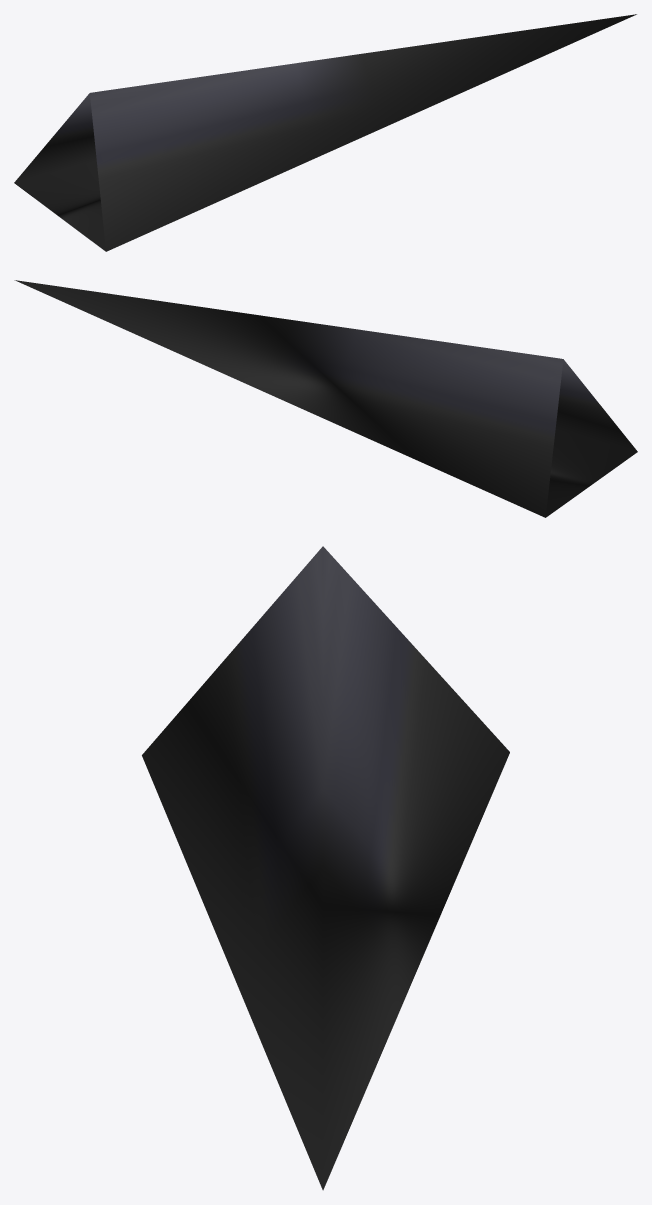
File: shaft_race_LRe_lod.dae
The picture shows the model from 3 angles, top to bottom: view 1: azimuth 30°, elevation 25°; view 2: azimuth 150°, elevation 25°; view 3: azimuth 270°, elevation 25°; orthographic projection. The views are drawn at different scales.
Visible parts, largest first — view 1: _0_0_node; view 2: _0_0_node; view 3: _0_0_node.
Boxes of the visible parts, x1,y1,x2,y2 form: _0_0_node: [14, 14, 636, 251]; _0_0_node: [14, 280, 637, 517]; _0_0_node: [142, 546, 509, 1190].
Size of the model in its own units: 6.67 by 1.31 by 1.84.
1 material, 1 textured.
